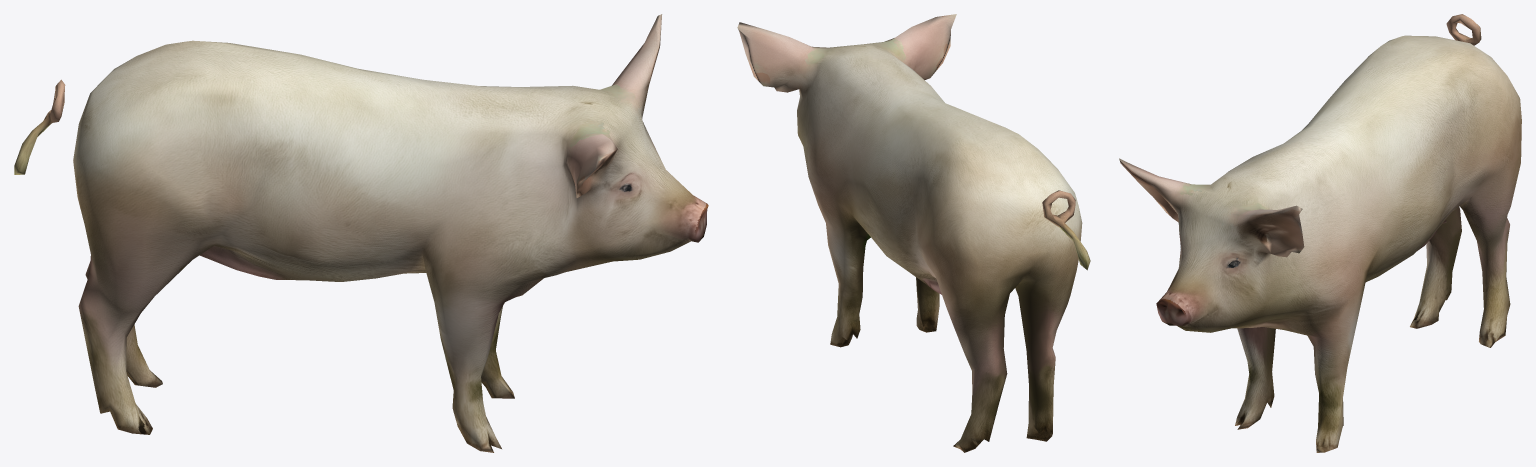
File: pig_single_1500_00001.glb
3 views of the same model, side by side, from view 1: azimuth 30°, elevation 25°; view 2: azimuth 150°, elevation 25°; view 3: azimuth 270°, elevation 25° (orthographic). The views are drawn at different scales.
Size of the model in its own units: 0.9048 by 0.5755 by 0.6892.
Materials: 1 (1 with a texture image).
